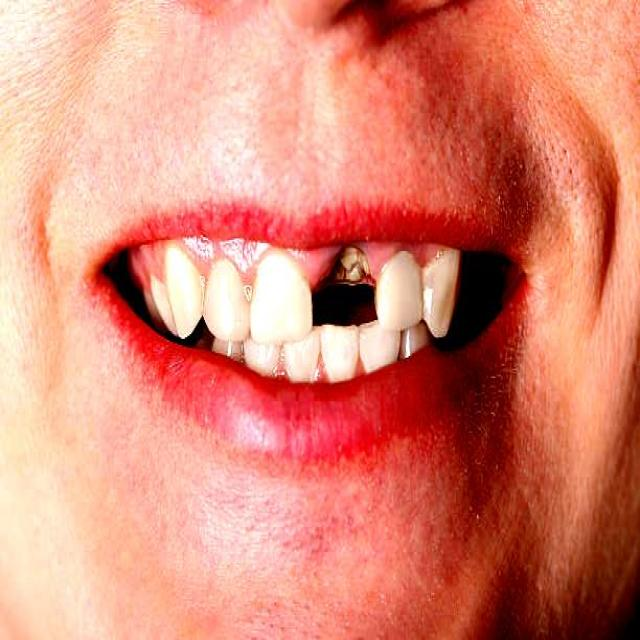caries: (317, 244, 372, 300)
